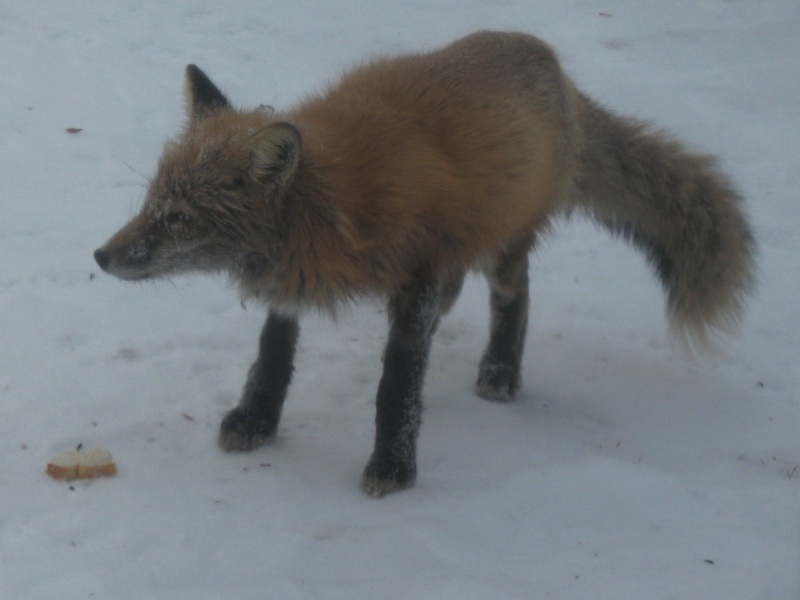fox: (92, 13, 750, 504)
